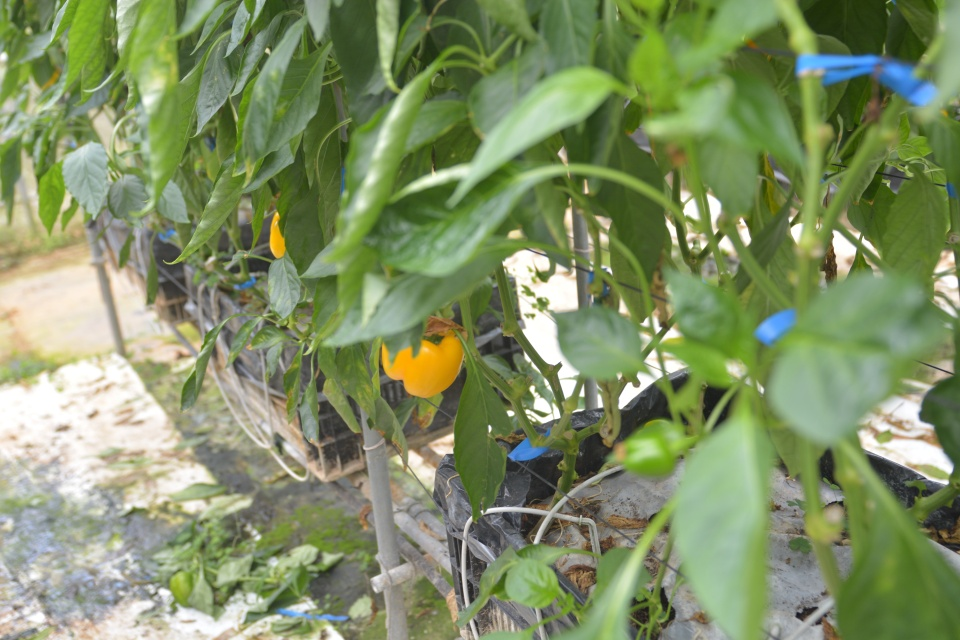fruit: (378, 313, 469, 399), (266, 208, 288, 260)
pedicle: (421, 333, 445, 346)
